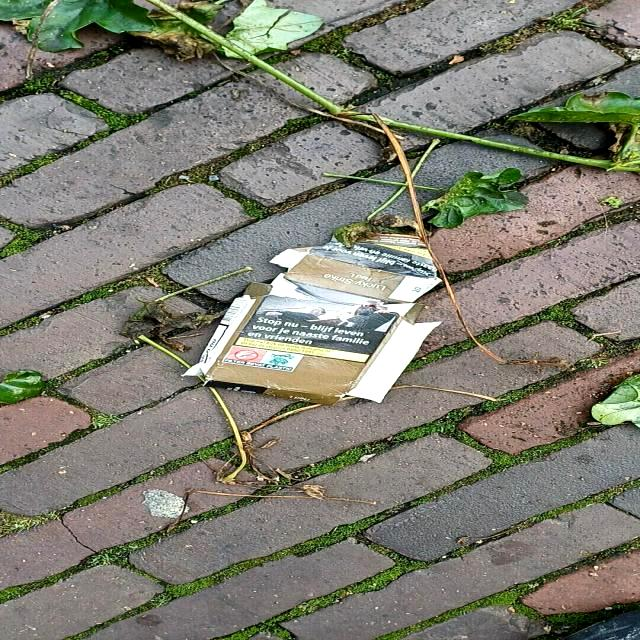Paper: (174, 230, 444, 408)
